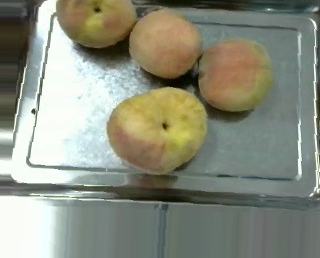Peach: (107, 86, 208, 173), (197, 35, 273, 112), (128, 7, 202, 78), (53, 0, 136, 48)
